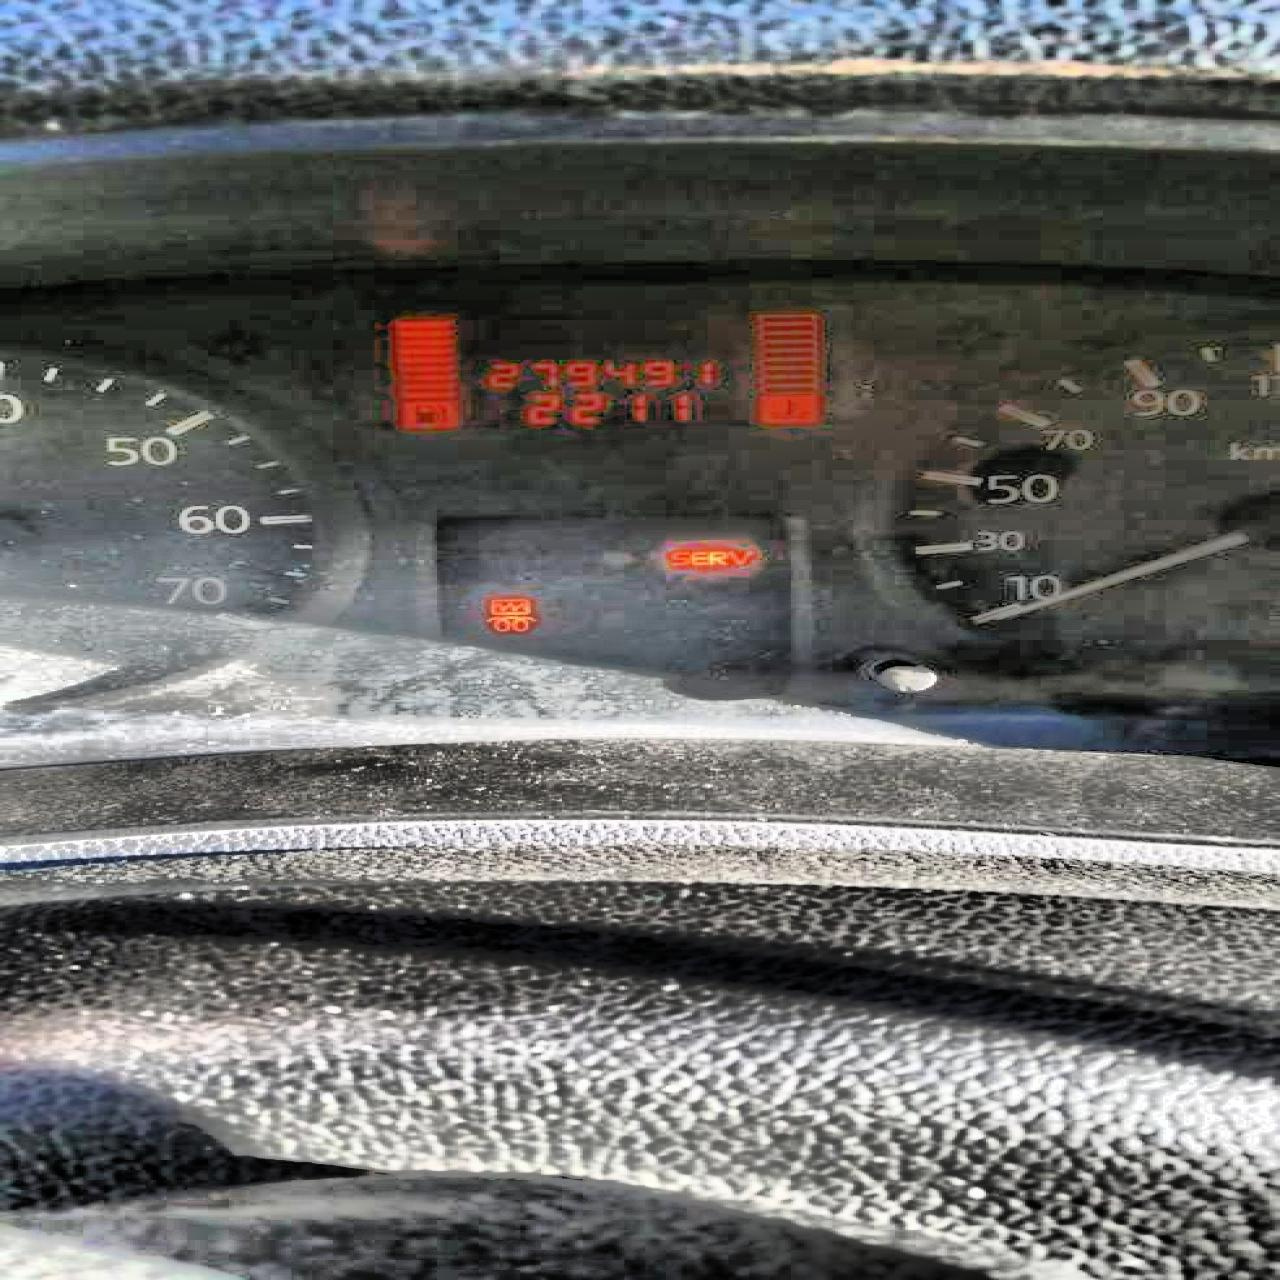1: (674, 393, 689, 420), (697, 360, 713, 384), (632, 393, 645, 420)
2: (567, 392, 604, 422), (525, 393, 559, 422), (484, 362, 515, 387)
4: (601, 361, 635, 383)
7: (527, 362, 554, 386)
9: (565, 362, 593, 386), (642, 361, 672, 382)
odometer: (383, 313, 836, 437)
